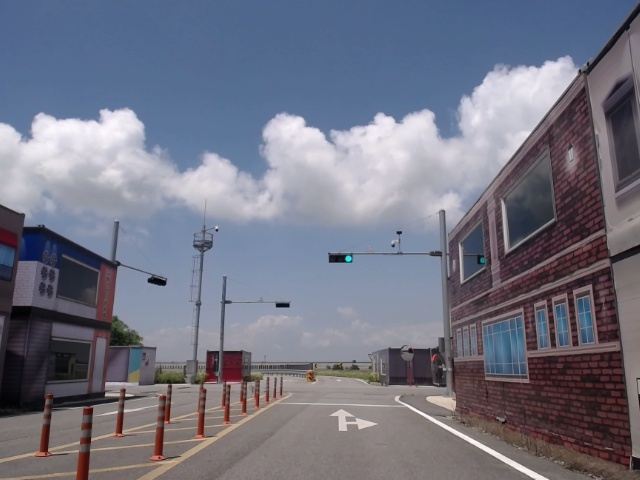green_3: (329, 254, 352, 264)
